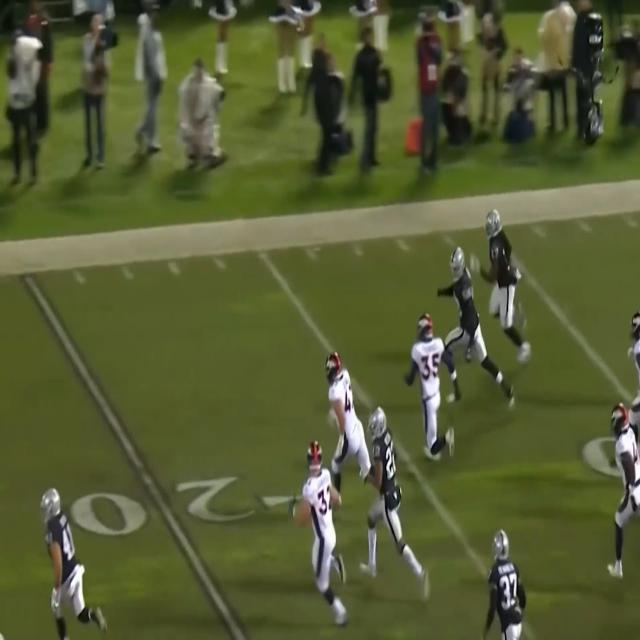players: (436, 239, 516, 410), (364, 402, 420, 608), (38, 483, 104, 638), (295, 448, 346, 632), (322, 345, 377, 504), (404, 310, 456, 474), (479, 201, 527, 371), (605, 411, 640, 591), (484, 520, 528, 640)
